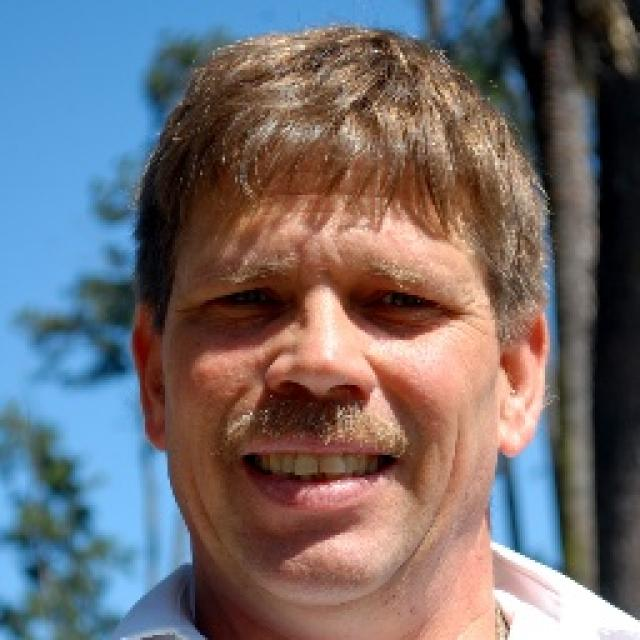earlobe: (498, 419, 534, 460), (144, 414, 170, 451)
eye: (363, 285, 445, 319), (194, 282, 282, 312)
nose: (269, 379, 371, 431)
wholeear: (502, 301, 548, 461), (133, 302, 173, 451)
